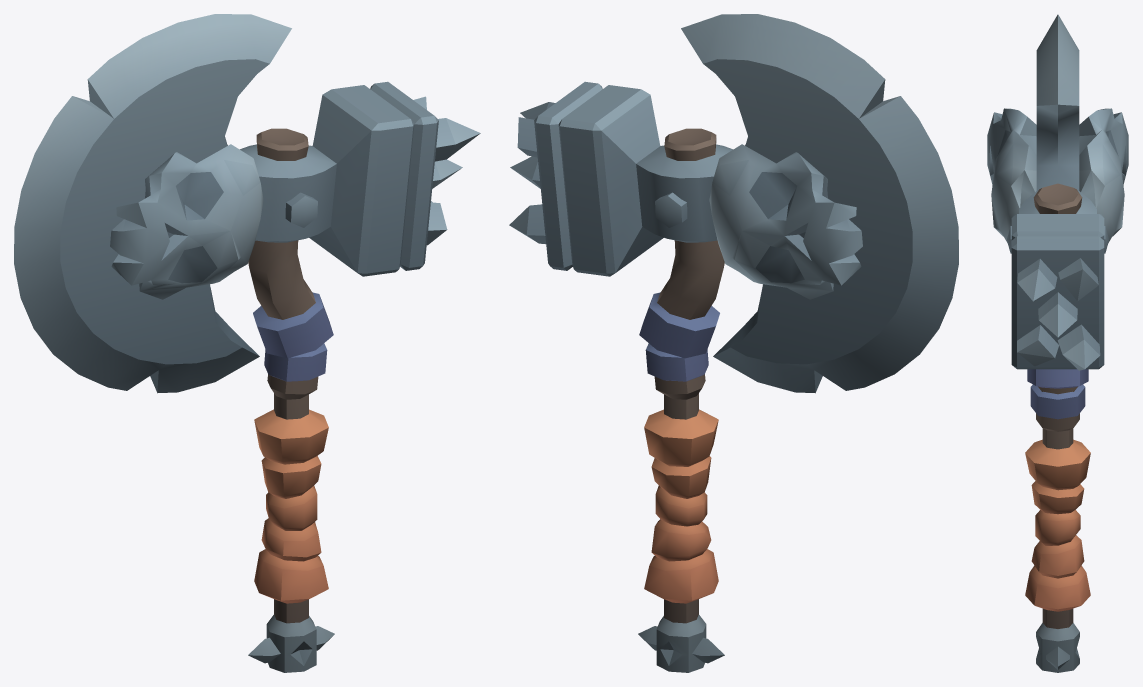
The model's file is Skeleton_Golem_Axe.glb.
The picture shows the model from 3 angles, left to right: view 1: azimuth 30°, elevation 25°; view 2: azimuth 150°, elevation 25°; view 3: azimuth 270°, elevation 25°; orthographic projection. The views are drawn at different scales.
Parts seen in each view (by area): view 1: Skeleton_Golem_Axe; view 2: Skeleton_Golem_Axe; view 3: Skeleton_Golem_Axe.
Part boxes in pixels (<box>): Skeleton_Golem_Axe: <box>14,14,480,672</box>; Skeleton_Golem_Axe: <box>509,14,958,672</box>; Skeleton_Golem_Axe: <box>987,14,1128,672</box>.
Bounding box in the file's own units: 1.14 × 1.63 × 0.3503.
Materials: 1 (1 with a texture image).
